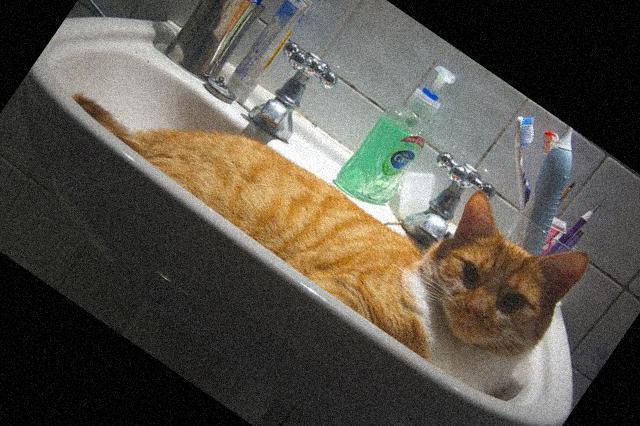Lavamanos: (0, 0, 639, 426)
Otro Obstaculo: (51, 0, 594, 426)
